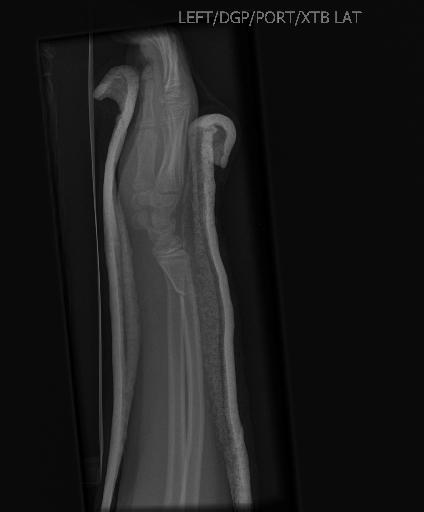forearm fracture: (161, 268, 208, 319)
